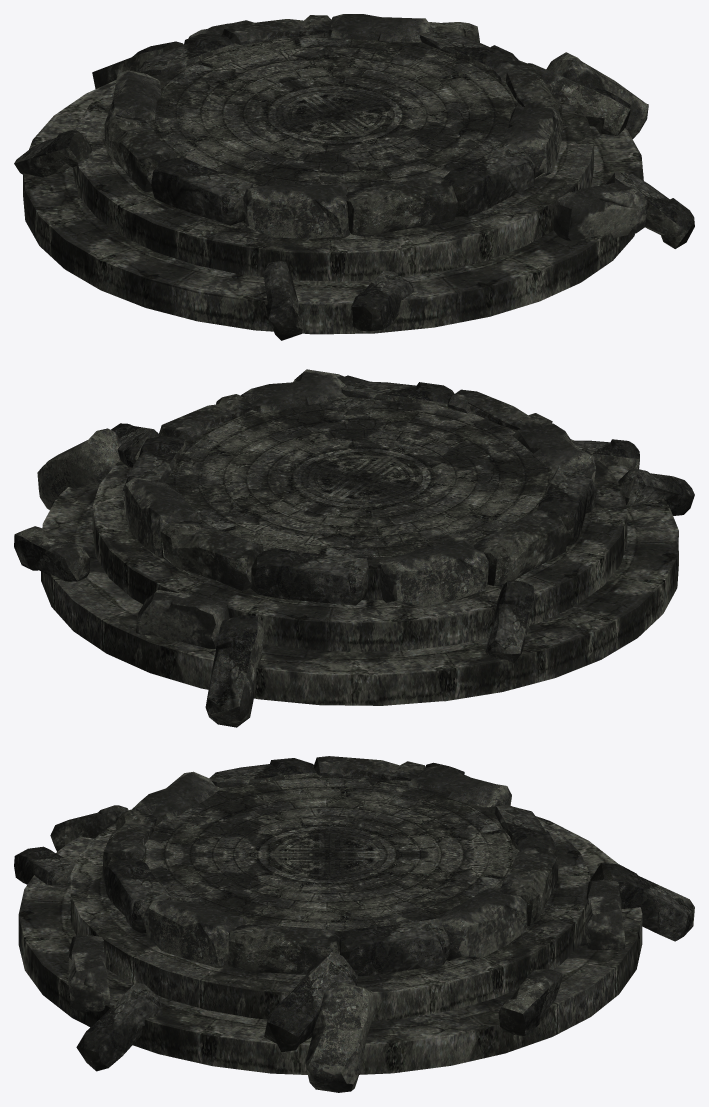
File: Postament.obj
3 views of the same model, one above another, from view 1: azimuth 30°, elevation 25°; view 2: azimuth 150°, elevation 25°; view 3: azimuth 270°, elevation 25° (orthographic). The views are drawn at different scales.
Visible parts, largest first — view 1: Postament; view 2: Postament; view 3: Postament.
Part boxes in pixels (x1,y1,x2,y2): Postament: (14, 14, 694, 340); Postament: (14, 369, 694, 727); Postament: (14, 756, 694, 1092).
Bounding box in the file's own units: 131 × 24.78 × 134.
